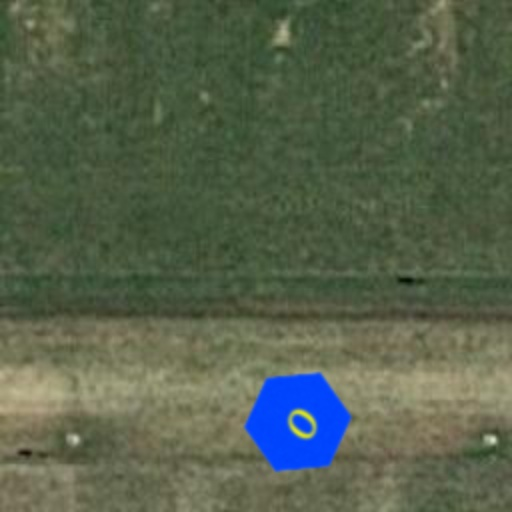hexagon: (224, 348, 372, 496)
